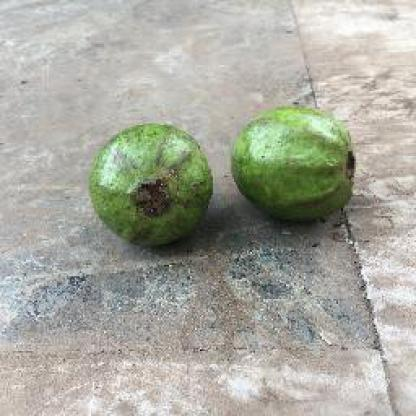guava: (86, 120, 213, 248), (229, 106, 356, 226)
